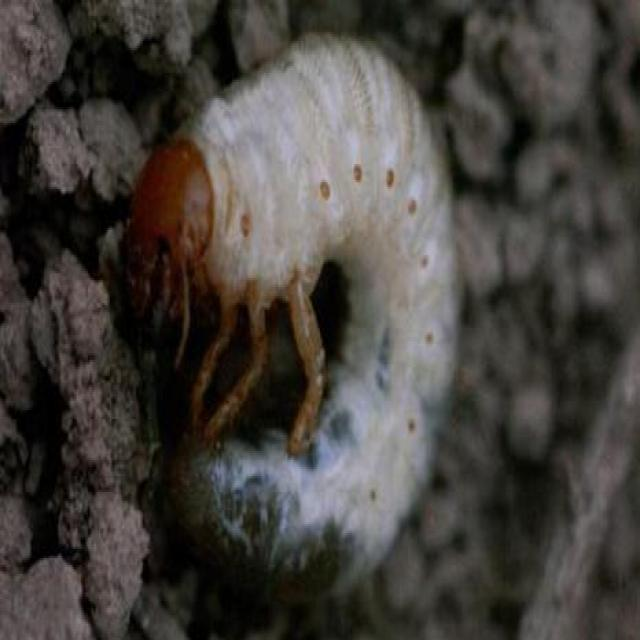Grub-Adult-: (138, 31, 463, 590)
